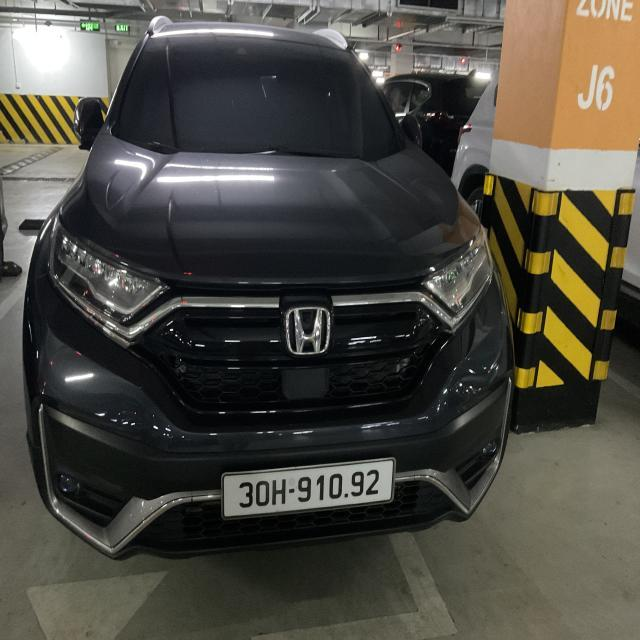license: (220, 456, 395, 520)
